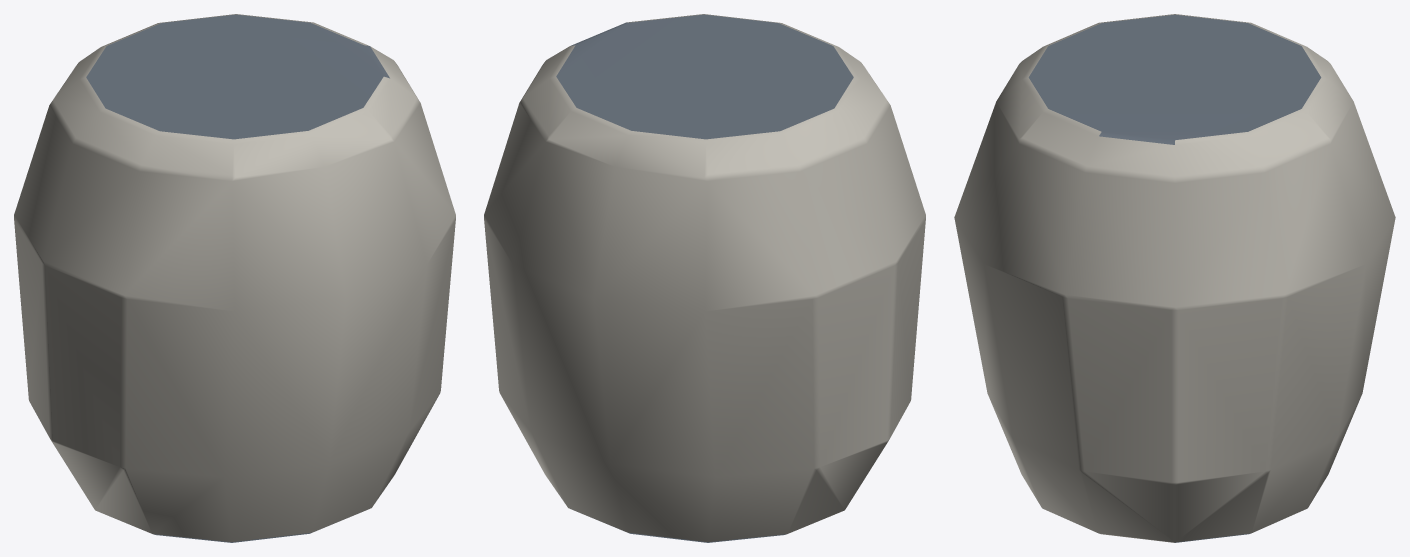
File: hand_guard.glb
The picture shows the model from 3 angles, left to right: view 1: azimuth 30°, elevation 25°; view 2: azimuth 150°, elevation 25°; view 3: azimuth 270°, elevation 25°; orthographic projection.
Parts seen in each view (by area): view 1: hand_guard; view 2: hand_guard; view 3: hand_guard.
Boxes of the visible parts, x1,y1,x2,y2 form: hand_guard: [14, 14, 455, 542]; hand_guard: [484, 14, 925, 542]; hand_guard: [954, 14, 1395, 542].
Size of the model in its own units: 0.9959 by 1 by 1.
